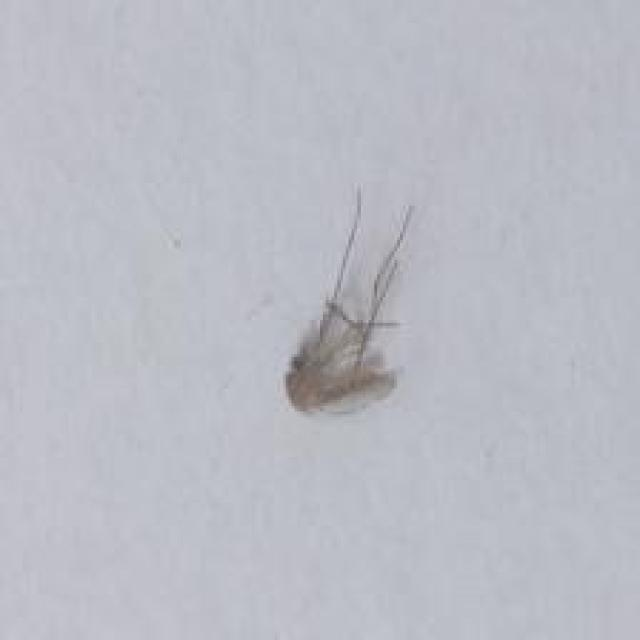Culex: (283, 183, 417, 414)
